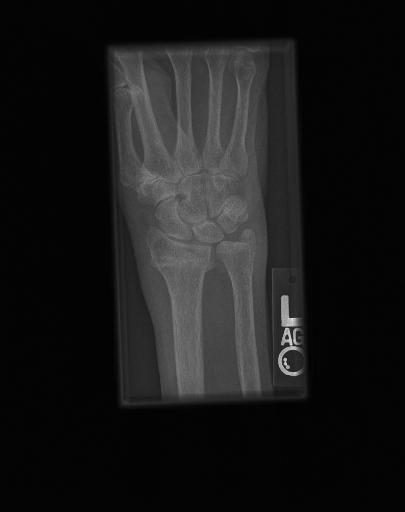fractured: (146, 240, 216, 278)
